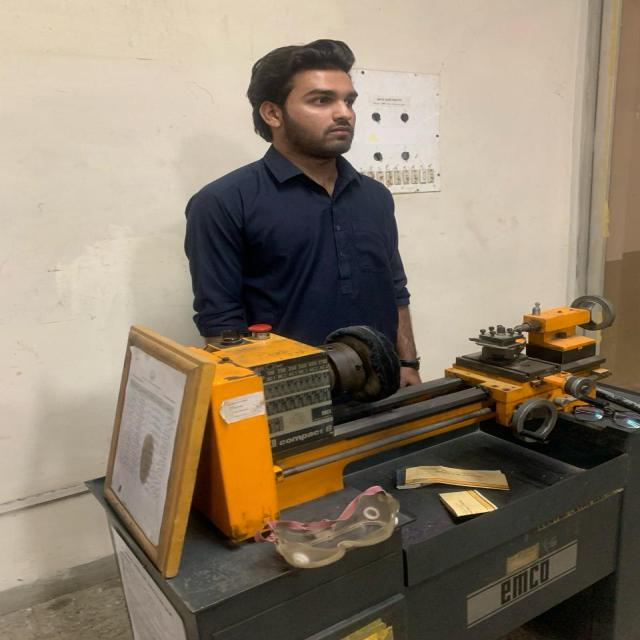dress: (180, 143, 415, 345)
